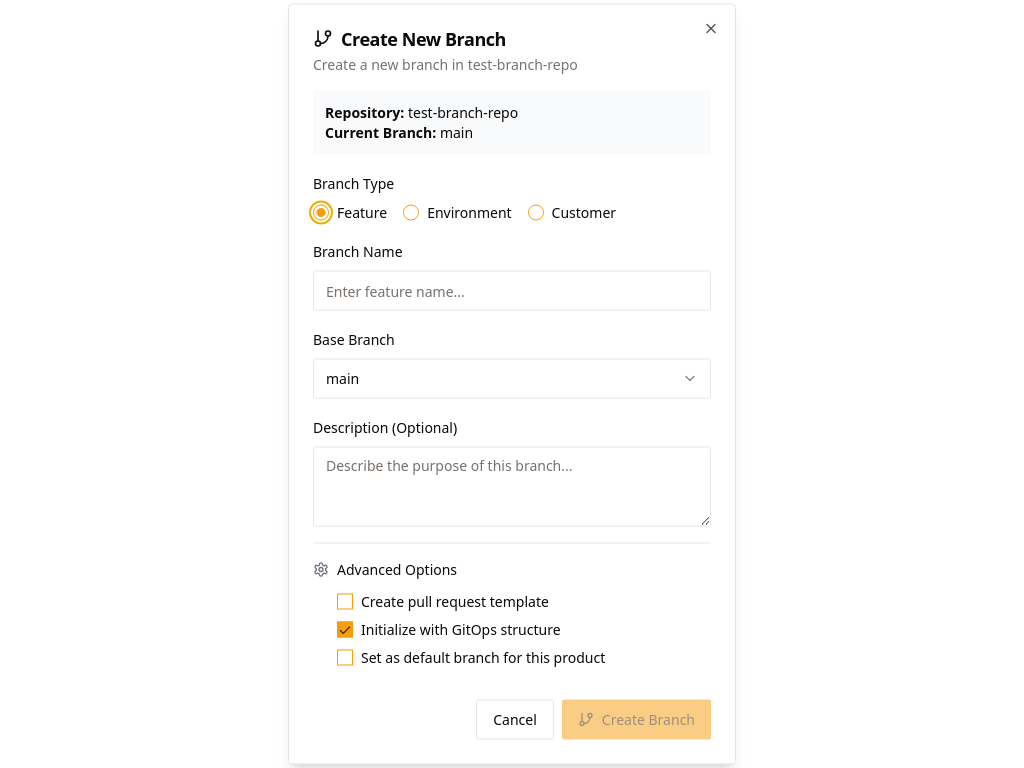
Test: BranchManagementDialog › shows preview when branch name is entered
Type "preview-test" into the field with placeholder "Enter feature name..." at (512, 290), box x1=313 y1=270 x2=711 y2=310
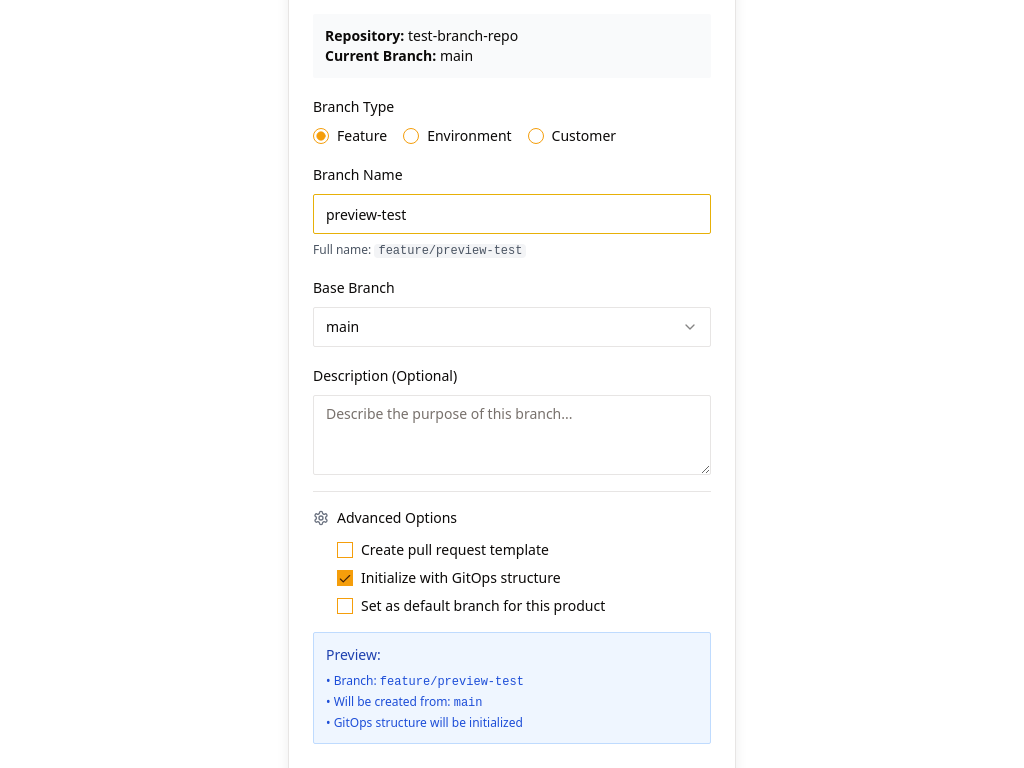
Check: the heading "Preview:" is shown, box x1=326 y1=645 x2=381 y2=664
Check: the text "feature/preview-test" next to "Full name:" is shown, box x1=378 y1=244 x2=522 y2=258
